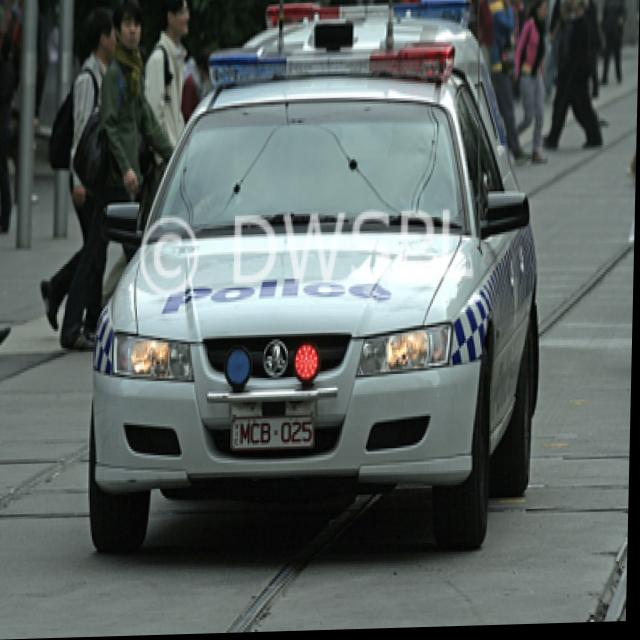licence: (231, 414, 316, 447)
